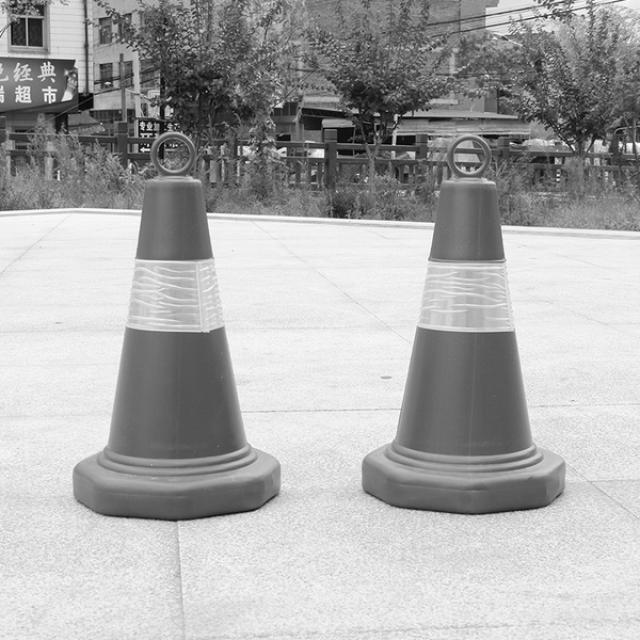reflective_cone: (349, 132, 573, 515), (70, 130, 285, 517)
